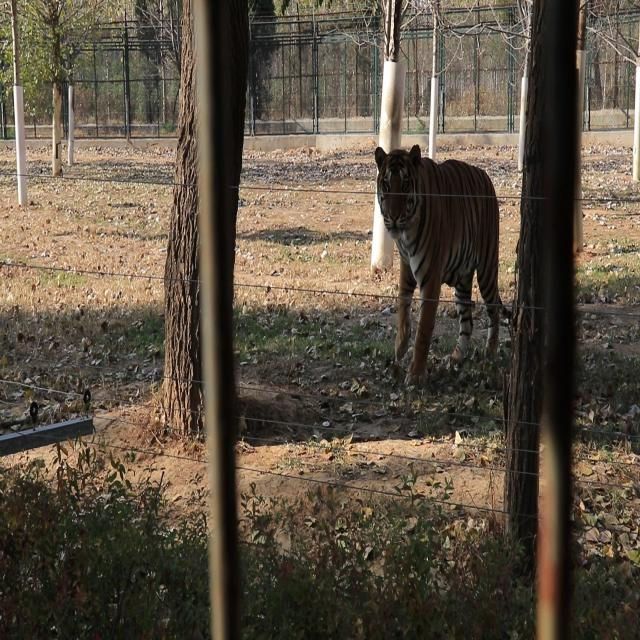Tiger: (372, 140, 511, 371)
